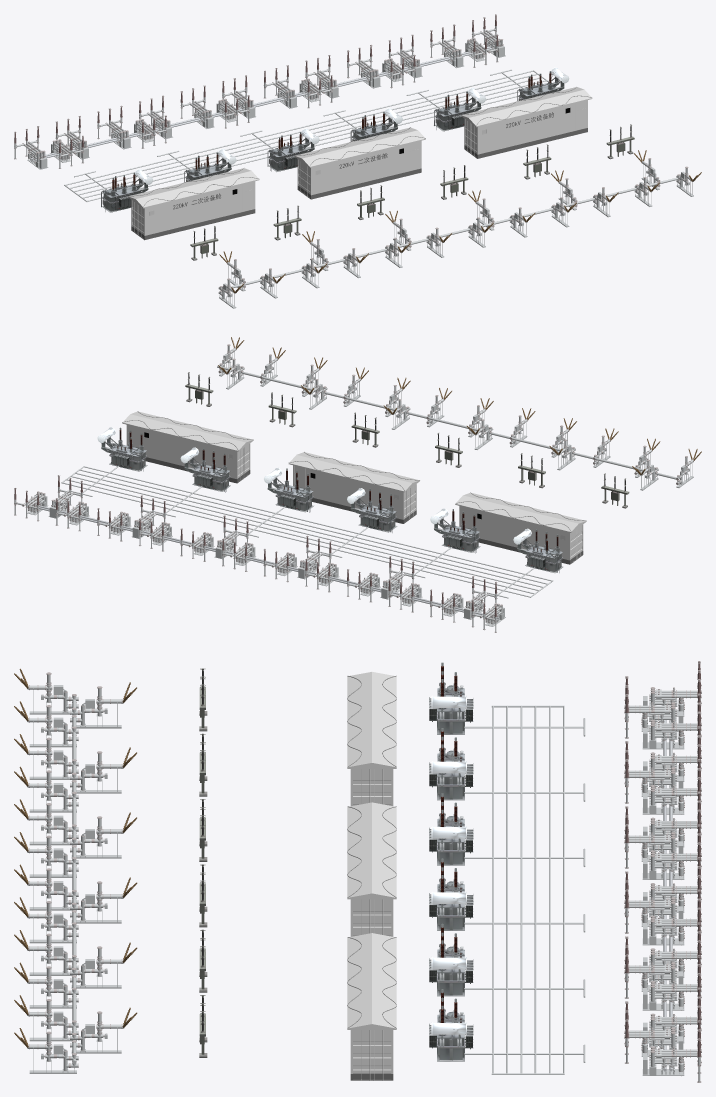
The model's file is devices-step1.glb.
3 views of the same model, one above another, from view 1: azimuth 30°, elevation 25°; view 2: azimuth 150°, elevation 25°; view 3: azimuth 270°, elevation 25° (orthographic). The views are drawn at different scales.
Visible parts, largest first — view 1: Obj3d66-1032738-6449-453, Obj3d66-1032738-6449-453.001, Obj3d66-1032738-6449-453.002, Obj3d66-1032738-6447-250, Obj3d66-1032738-6447-250.001, Obj3d66-1032738-6447-250.002, object 1, Obj3d66-1003450-1690-386, Obj3d66-1032738-6403-526.020, object 7, object 13, Obj3d66-1032738-6403-526.012 (+9 smaller); view 2: Obj3d66-1032738-6428-814.002, Obj3d66-1032738-6428-814, Obj3d66-1032738-6428-814.001, Obj3d66-1032738-6447-250.001, Obj3d66-1032738-6447-250, Obj3d66-1032738-6447-250.002, object 1, Obj3d66-1032738-6403-526.020, object 7, object 4, object 13, object 16 (+8 smaller); view 3: Obj3d66-1032738-6447-250.001, Obj3d66-1032738-6447-250, Obj3d66-1032738-6447-250.002, object 1, object 16, object 13, object 4, object 7, object 10, Obj3d66-1032738-6403-526.020, Obj3d66-1032738-6409-920.002, Obj3d66-1032738-6409-920 (+9 smaller).
Part boxes in pixels (bbox=[...]): Obj3d66-1032738-6449-453: bbox=[144, 181, 255, 235]; Obj3d66-1032738-6449-453.001: bbox=[311, 140, 421, 195]; Obj3d66-1032738-6449-453.002: bbox=[477, 100, 587, 154]; Obj3d66-1032738-6447-250: bbox=[128, 168, 259, 208]; Obj3d66-1032738-6447-250.001: bbox=[294, 127, 425, 167]; Obj3d66-1032738-6447-250.002: bbox=[461, 87, 592, 127]; object 1: bbox=[101, 169, 152, 212]; Obj3d66-1003450-1690-386: bbox=[30, 46, 494, 161]; Obj3d66-1032738-6403-526.020: bbox=[230, 177, 678, 288]; object 7: bbox=[267, 132, 314, 171]; object 13: bbox=[434, 91, 481, 131]; Obj3d66-1032738-6403-526.012: bbox=[65, 70, 533, 185]; Obj3d66-1032738-6428-814.002: bbox=[126, 425, 237, 478]; Obj3d66-1032738-6428-814: bbox=[459, 506, 569, 560]; Obj3d66-1032738-6428-814.001: bbox=[293, 465, 403, 519]; Obj3d66-1032738-6447-250.001: bbox=[288, 452, 419, 492]; Obj3d66-1032738-6447-250: bbox=[455, 492, 586, 532]; Obj3d66-1032738-6447-250.002: bbox=[122, 411, 253, 451]; object 1: bbox=[513, 528, 563, 572]; Obj3d66-1032738-6403-526.020: bbox=[217, 365, 676, 479]; object 7: bbox=[351, 488, 397, 532]; object 4: bbox=[434, 509, 480, 553]; object 13: bbox=[184, 448, 230, 492]; object 16: bbox=[101, 427, 147, 471]; Obj3d66-1032738-6447-250.001: bbox=[347, 802, 396, 899]; Obj3d66-1032738-6447-250: bbox=[347, 672, 396, 768]; Obj3d66-1032738-6447-250.002: bbox=[347, 933, 396, 1029]; object 1: bbox=[429, 662, 473, 734]; object 16: bbox=[429, 989, 473, 1061]; object 13: bbox=[429, 923, 473, 996]; object 4: bbox=[429, 728, 473, 800]; object 7: bbox=[429, 793, 473, 865]; object 10: bbox=[429, 858, 473, 930]; Obj3d66-1032738-6403-526.020: bbox=[72, 699, 76, 1063]; Obj3d66-1032738-6409-920.002: bbox=[353, 1030, 391, 1073]; Obj3d66-1032738-6409-920: bbox=[353, 769, 391, 804].
Size of the model in its own units: 69.62 by 5.78 by 53.42.
Materials: 29 (6 with a texture image).
